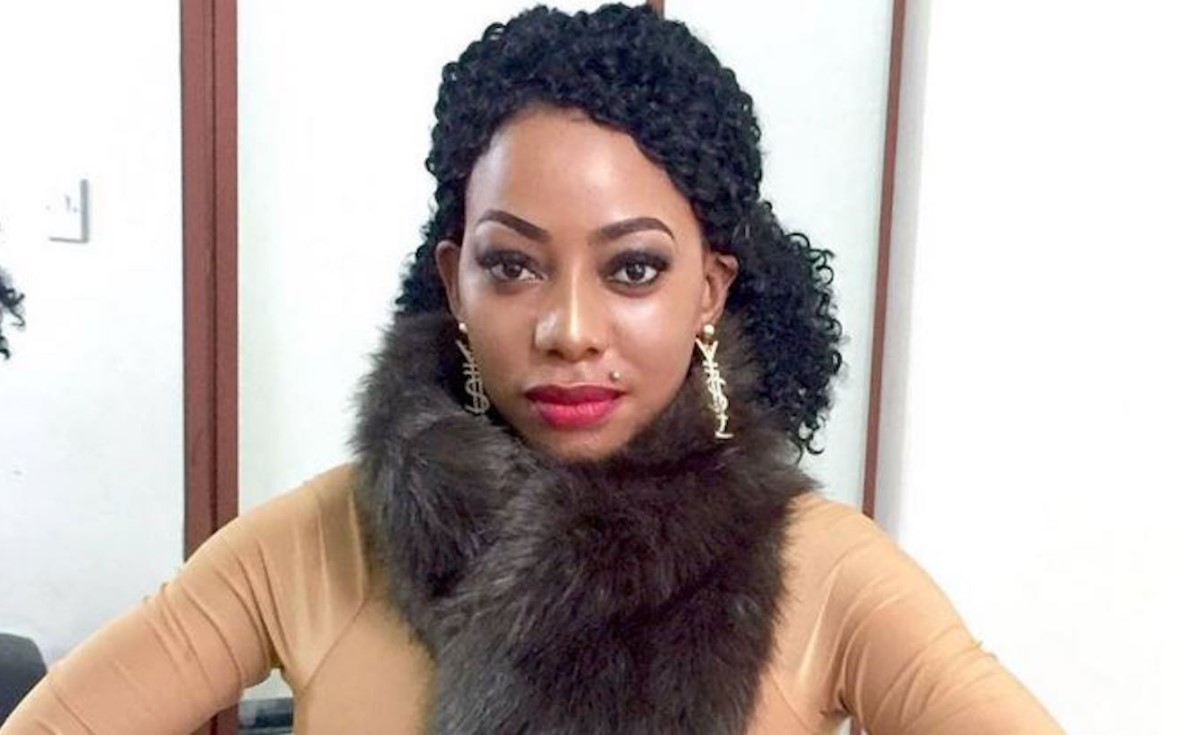face_no_mask: (436, 76, 731, 465)
